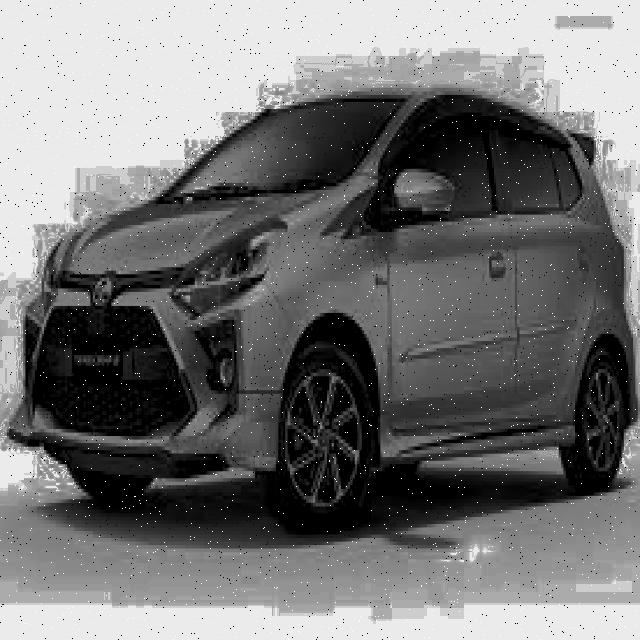Car: (3, 55, 640, 593)
